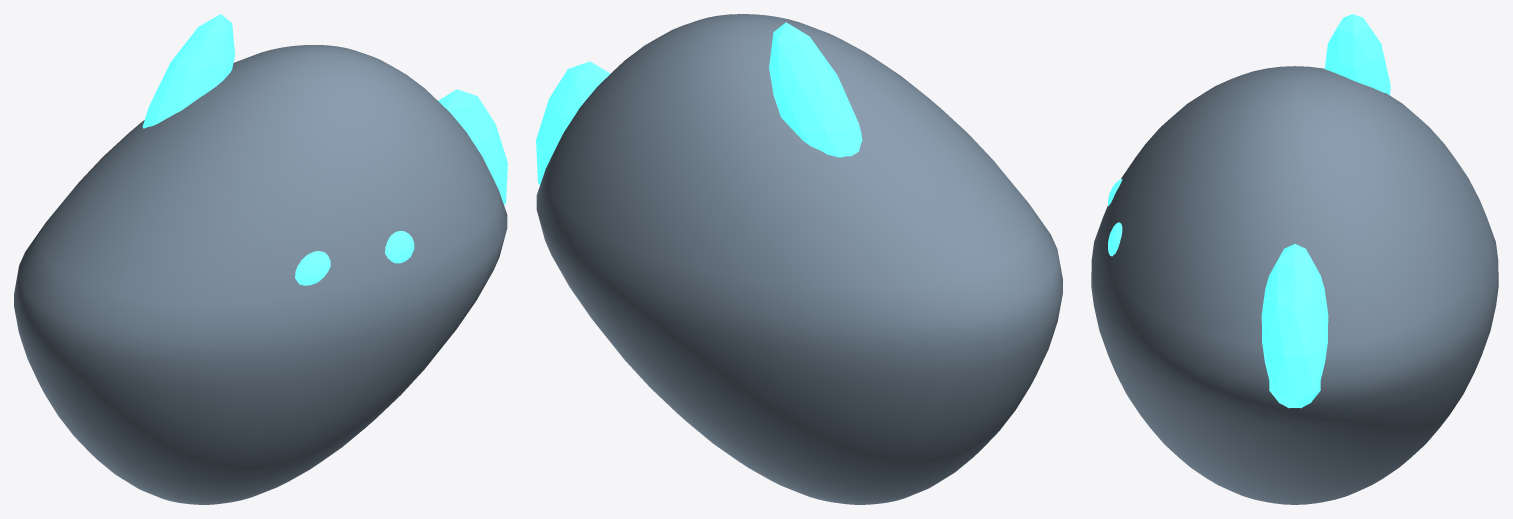
The model's file is ooze_v7.glb.
3 renders of one model, left to right at view 1: azimuth 30°, elevation 25°; view 2: azimuth 150°, elevation 25°; view 3: azimuth 270°, elevation 25°, orthographic. The views are drawn at different scales.
Visible parts, largest first — view 1: CORE_BODY_PRIMARY, ENERGY_SHARD_EMISSIVE.001, ENERGY_SHARD_EMISSIVE, EYE_EMISSIVE, EYE_EMISSIVE.001; view 2: CORE_BODY_PRIMARY, ENERGY_SHARD_EMISSIVE.001, ENERGY_SHARD_EMISSIVE; view 3: CORE_BODY_PRIMARY, ENERGY_SHARD_EMISSIVE, ENERGY_SHARD_EMISSIVE.001.
Boxes of the visible parts, box(x1,y1,x2,y2) form: CORE_BODY_PRIMARY: box(14, 45, 507, 504); ENERGY_SHARD_EMISSIVE.001: box(142, 14, 235, 128); ENERGY_SHARD_EMISSIVE: box(438, 89, 507, 205); EYE_EMISSIVE: box(295, 251, 330, 285); EYE_EMISSIVE.001: box(385, 231, 414, 263); CORE_BODY_PRIMARY: box(536, 14, 1062, 504); ENERGY_SHARD_EMISSIVE.001: box(769, 22, 862, 157); ENERGY_SHARD_EMISSIVE: box(536, 61, 610, 184); CORE_BODY_PRIMARY: box(1091, 66, 1498, 504); ENERGY_SHARD_EMISSIVE: box(1261, 244, 1328, 408); ENERGY_SHARD_EMISSIVE.001: box(1324, 14, 1390, 95).
Bounding box in the file's own units: 2.1 × 1.93 × 1.44.
